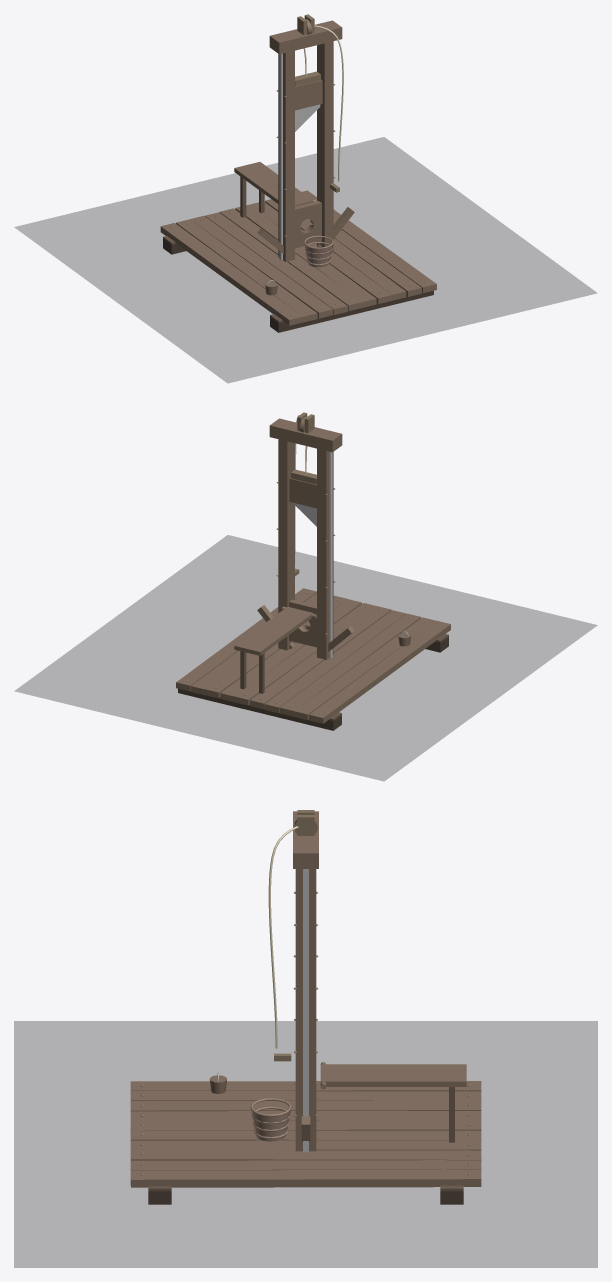
The model's file is a-mideval-gillotine.gltf.
3 views of the same model, one above another, from view 1: azimuth 30°, elevation 25°; view 2: azimuth 150°, elevation 25°; view 3: azimuth 270°, elevation 25° (orthographic). The views are drawn at different scales.
Size of the model in its own units: 15 by 9.75 by 15.
